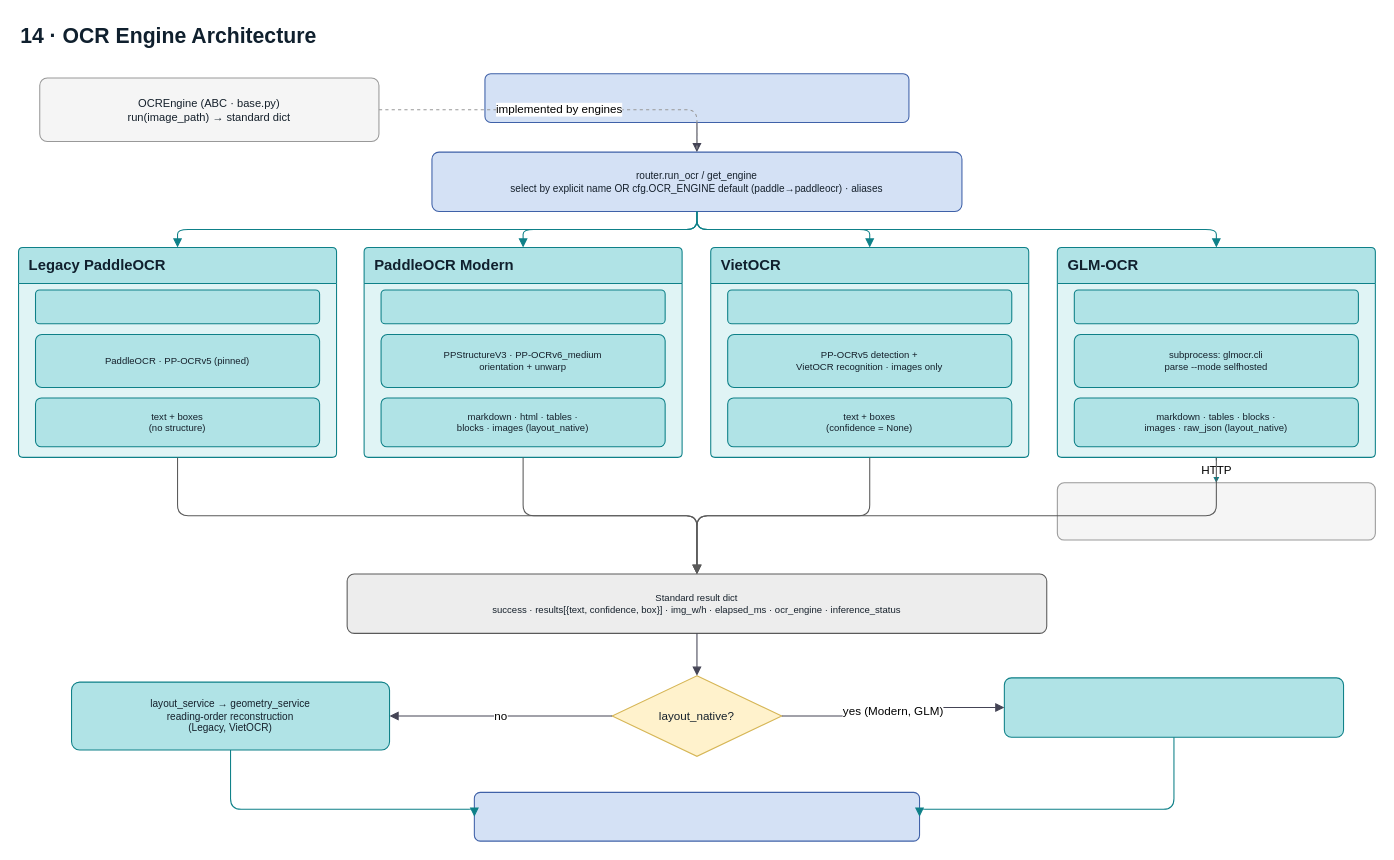
The diagram is 1394 pixels wide and 860 high, and some of its shapes have lost their labels. The centre of each missing label's shape, as x and y in pixels:
"GLM MLX server :8080 (GLM_OCR_API_URL)" goes at pixel 1215 511.
"GLMOCREngine" goes at pixel 1215 306.
"markdown_normalize repair_unmatched_display_math" goes at pixel 1173 707.
"ocr_service returns dict → OCR Processing Pipeline (persist + index)" goes at pixel 696 816.
"ocr_service.run_ocr(image_path, engine_name)" goes at pixel 696 97.
"PaddleOCREngine" goes at pixel 177 306.
"PaddleOCRModernEngine" goes at pixel 522 306.
"VietOCREngine" goes at pixel 869 306.
